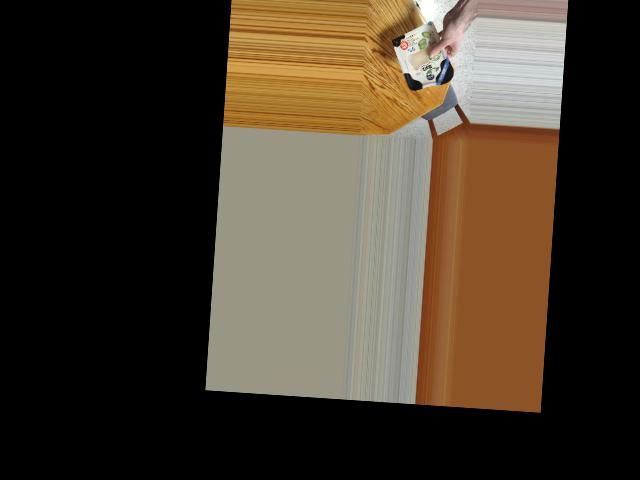cheese: (392, 26, 460, 93)
